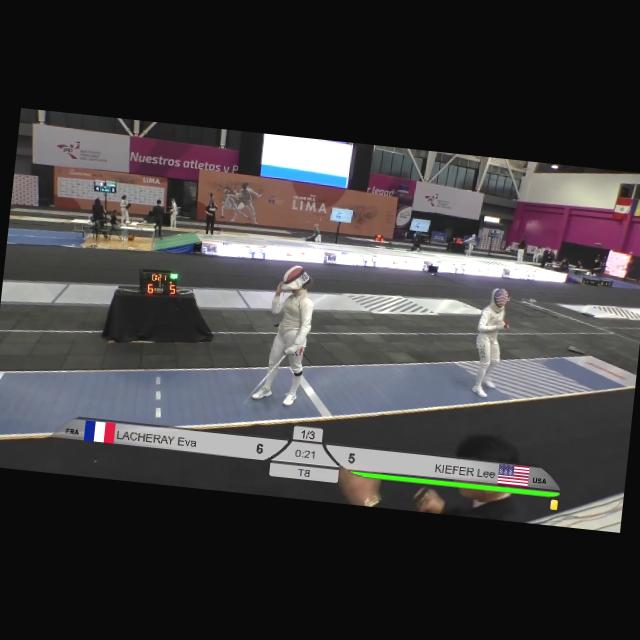blade: (240, 345, 290, 412)
